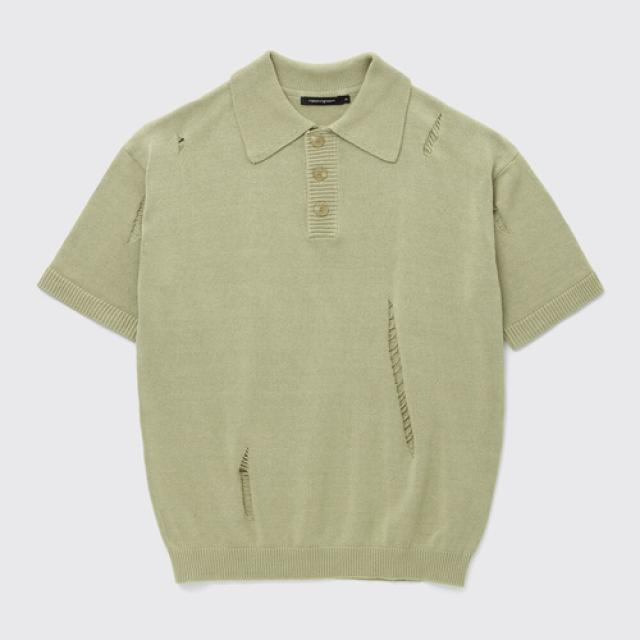dress: (27, 40, 606, 591)
